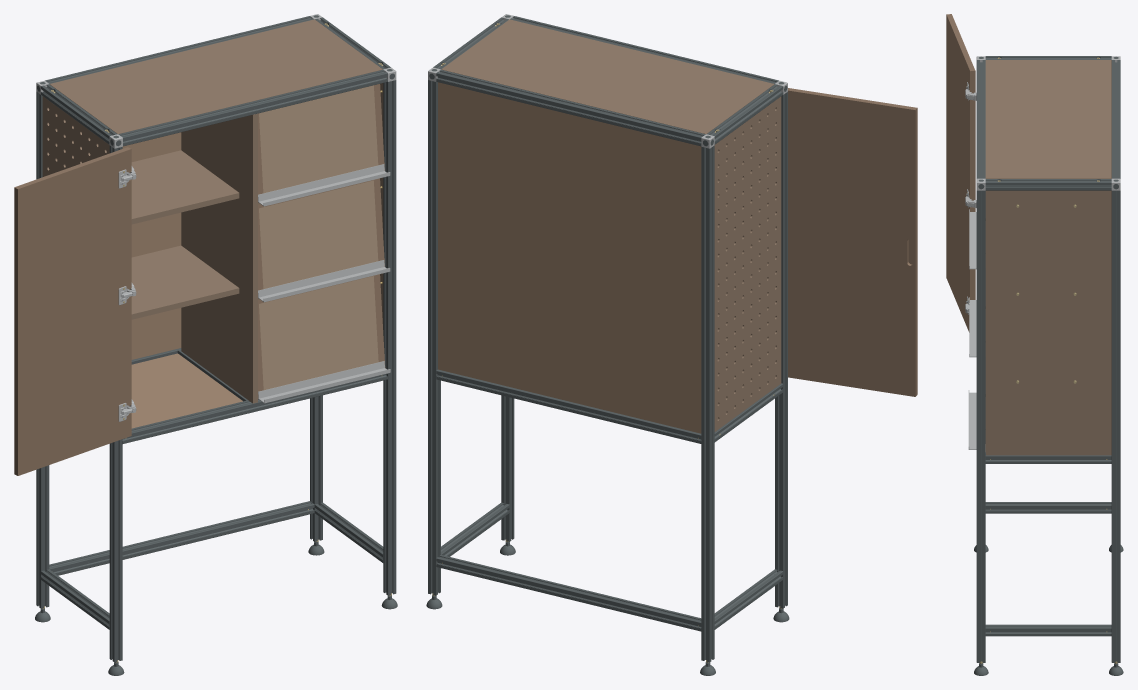
The model's file is cabinet-170.glb.
3 views of the same model, side by side, from view 1: azimuth 30°, elevation 25°; view 2: azimuth 150°, elevation 25°; view 3: azimuth 270°, elevation 25° (orthographic). The views are drawn at different scales.
Parts seen in each view (by area): view 1: Left-door-face-18, Top-18, Center-18, Plywood-infill-6-1, Plywood-infill-6-2, Plywood-infill-6-3, Post-966-23, Shelf-Left-1, Shelf-Left-2, Floor-Left-8, Back-infill-8, Beam-top-front (+16 smaller); view 2: Back-infill-8, Left-door-face-18, Left-pegboard-24, Top-18, Post-4-470, Post-966-470, Post-4-23, Beam-top-rear, Beam-lower-rear, Beam-body-rear, Post-966-23, Beam-top-front (+4 smaller); view 3: Right-wall-18, Top-18, Left-door-face-18, Post-966-23, Post-966-470, Beam-lower-side-966, Beam-lower-side-4, Beam-top-side-966, Beam-top-rear, Beam-top-front, Beam-body-side-966, Display-ledge-1 (+3 smaller).
Part boxes in pixels (x1=…): Left-door-face-18: x1=14, y1=147, x2=131, y2=475; Top-18: x1=50, y1=19, x2=382, y2=134; Center-18: x1=181, y1=113, x2=257, y2=403; Plywood-infill-6-1: x1=259, y1=276, x2=378, y2=390; Plywood-infill-6-2: x1=259, y1=180, x2=378, y2=289; Plywood-infill-6-3: x1=259, y1=85, x2=378, y2=193; Post-966-23: x1=383, y1=80, x2=396, y2=595; Shelf-Left-1: x1=131, y1=245, x2=239, y2=319; Shelf-Left-2: x1=131, y1=150, x2=239, y2=224; Floor-Left-8: x1=131, y1=353, x2=242, y2=428; Back-infill-8: x1=122, y1=132, x2=181, y2=359; Beam-top-front: x1=118, y1=69, x2=387, y2=146; Back-infill-8: x1=438, y1=82, x2=701, y2=433; Left-door-face-18: x1=788, y1=88, x2=917, y2=396; Left-pegboard-24: x1=714, y1=96, x2=781, y2=431; Top-18: x1=441, y1=19, x2=774, y2=134; Post-4-470: x1=701, y1=145, x2=714, y2=662; Post-966-470: x1=428, y1=80, x2=440, y2=595; Post-4-23: x1=775, y1=92, x2=787, y2=608; Beam-top-rear: x1=436, y1=69, x2=705, y2=146; Beam-lower-rear: x1=436, y1=555, x2=701, y2=631; Beam-body-rear: x1=436, y1=369, x2=701, y2=443; Post-966-23: x1=501, y1=395, x2=514, y2=541; Beam-top-front: x1=510, y1=16, x2=778, y2=83; Right-wall-18: x1=986, y1=190, x2=1111, y2=455; Top-18: x1=985, y1=60, x2=1111, y2=178; Left-door-face-18: x1=946, y1=14, x2=975, y2=332; Post-966-23: x1=976, y1=190, x2=985, y2=662; Post-966-470: x1=1111, y1=190, x2=1120, y2=662; Beam-lower-side-966: x1=985, y1=624, x2=1111, y2=636; Beam-lower-side-4: x1=985, y1=502, x2=1111, y2=513; Beam-top-side-966: x1=985, y1=179, x2=1111, y2=190; Beam-top-rear: x1=1111, y1=60, x2=1120, y2=178; Beam-top-front: x1=976, y1=60, x2=985, y2=178; Beam-body-side-966: x1=985, y1=452, x2=1111, y2=463; Display-ledge-1: x1=968, y1=390, x2=976, y2=449.
Bounding box in the file's own units: 1.4 × 1.8 × 0.5867.
